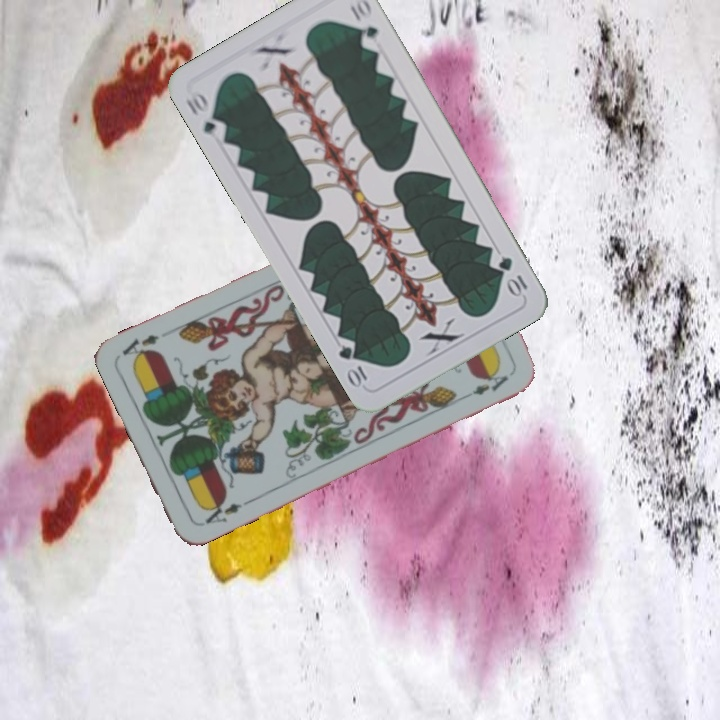EA: (198, 496, 252, 527)
G10: (181, 88, 230, 138), (494, 252, 530, 300)
